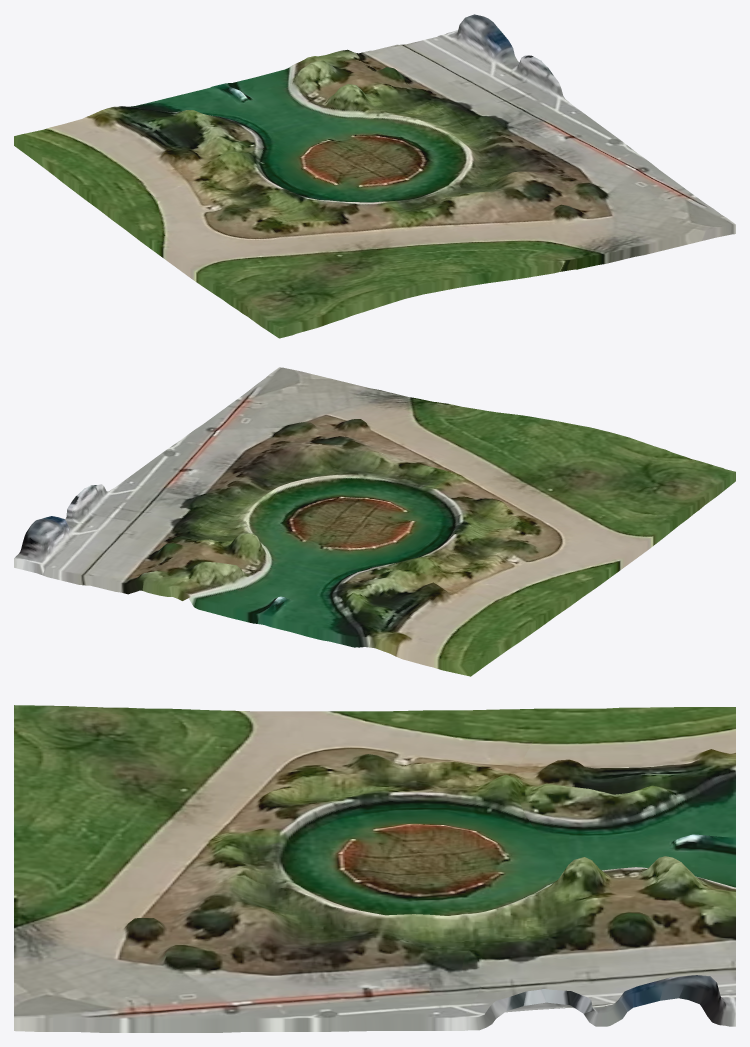
File: z20-167784-405217-h0-yup-uvflip-v3-world.glb
3 renders of one model, top to bottom at view 1: azimuth 30°, elevation 25°; view 2: azimuth 150°, elevation 25°; view 3: azimuth 270°, elevation 25°, orthographic. The views are drawn at different scales.
Size of the model in its own units: 30.16 by 2.52 by 30.32.
1 material, 1 textured.
